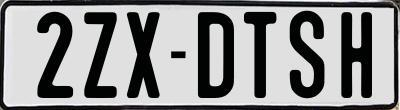2: (35, 10, 71, 97)
D: (197, 11, 239, 100)
H: (338, 11, 373, 98)
S: (290, 10, 326, 102)
T: (242, 12, 280, 102)
X: (127, 11, 166, 99)
Z: (84, 9, 123, 97)
